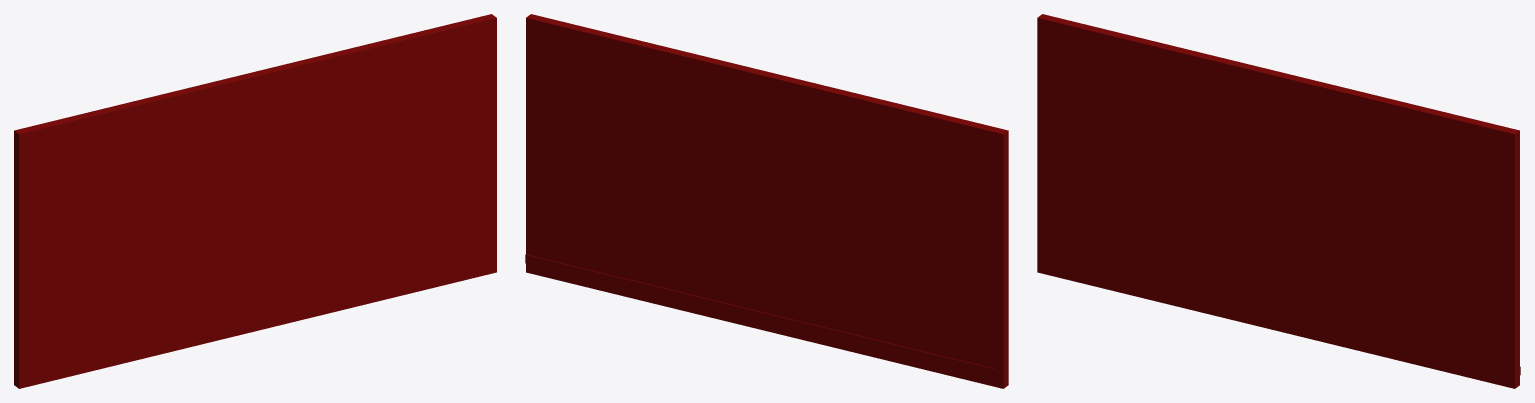
File: Wall.fbx
3 renders of one model, left to right at view 1: azimuth 30°, elevation 25°; view 2: azimuth 150°, elevation 25°; view 3: azimuth 330°, elevation 25°, orthographic.
Visible parts, largest first — view 1: polySurface2; view 2: polySurface2; view 3: polySurface2.
Boxes of the visible parts, x1,y1,x2,y2 form: polySurface2: [14, 14, 496, 388]; polySurface2: [525, 14, 1008, 388]; polySurface2: [1037, 14, 1520, 388].
Size of the model in its own units: 2553 by 1301 by 52.99.
